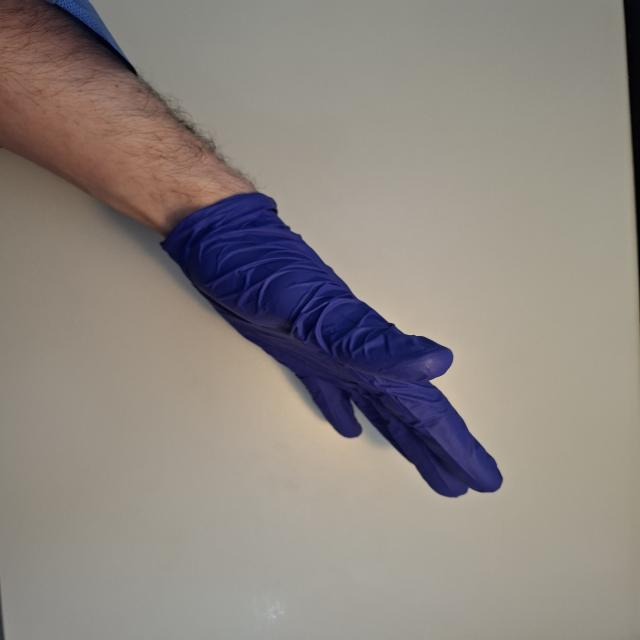glove_on: (155, 190, 507, 502)
